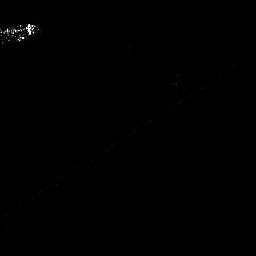ship: (1, 21, 41, 48)
